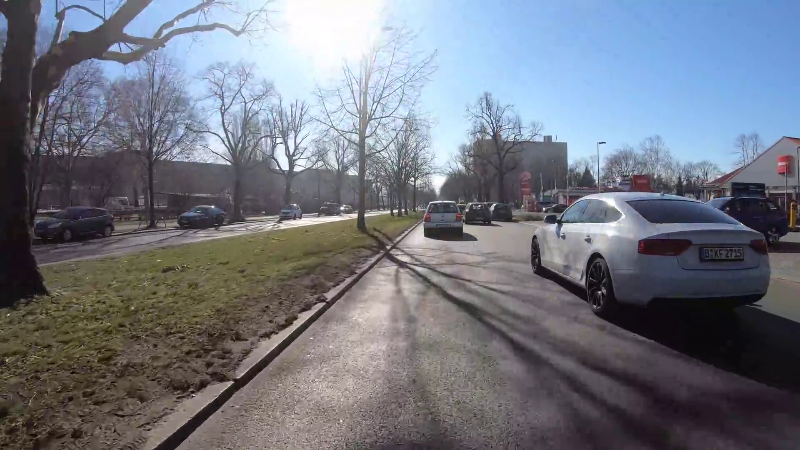Plate: (698, 246, 742, 260), (434, 222, 453, 229)
